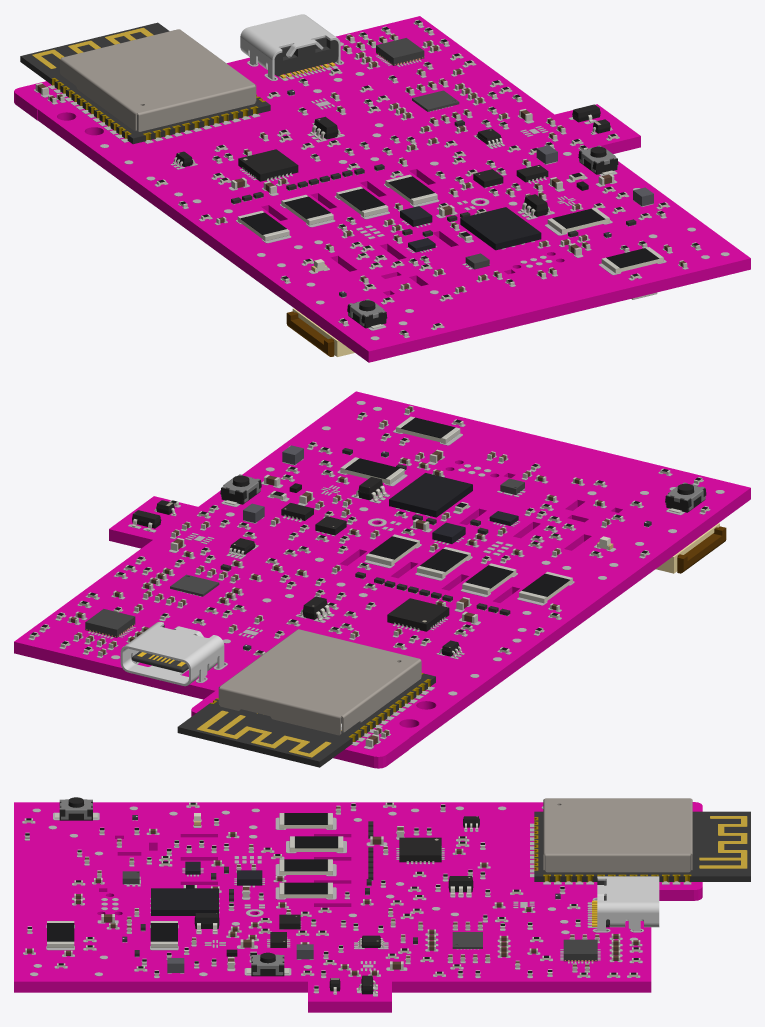
Rendered from board_v24_pads.glb.
3 renders of one model, top to bottom at view 1: azimuth 30°, elevation 25°; view 2: azimuth 150°, elevation 25°; view 3: azimuth 270°, elevation 25°, orthographic. The views are drawn at different scales.
Parts seen in each view (by area): view 1: =>[0:1:1:361], NAUO2, =>[0:1:1:360], =>[0:1:1:10] (×6), =>[0:1:1:20], NAUO215, W25Q512_WSON8 (Shell), =>[0:1:1:291] (×2), =>[0:1:1:239], BODY-QFN, lock, NAUO224 (+1 smaller); view 2: =>[0:1:1:361], NAUO2, =>[0:1:1:360], =>[0:1:1:10] (×6), NAUO215, =>[0:1:1:20], W25Q512_WSON8 (Shell), =>[0:1:1:291] (×2), =>[0:1:1:239], NAUO224, BODY-QFN, lock (+1 smaller); view 3: =>[0:1:1:361], NAUO2, =>[0:1:1:360], =>[0:1:1:10] (×6), NAUO215, =>[0:1:1:20], W25Q512_WSON8 (Shell), =>[0:1:1:291] (×2), =>[0:1:1:239], NAUO224, BODY-QFN, =>0:1:1:16 (+3 smaller).
Part boxes in pixels (<box>): =>[0:1:1:361]: <box>14,16,750,362</box>; NAUO2: <box>60,29,256,131</box>; =>[0:1:1:360]: <box>34,22,729,340</box>; =>[0:1:1:10] (×6): <box>237,174,663,273</box>; =>[0:1:1:20]: <box>240,14,340,79</box>; NAUO215: <box>20,22,270,144</box>; W25Q512_WSON8 (Shell): <box>460,207,541,250</box>; =>[0:1:1:291] (×2): <box>347,145,618,328</box>; =>[0:1:1:239]: <box>238,149,298,181</box>; BODY-QFN: <box>376,38,424,65</box>; lock: <box>286,311,334,356</box>; NAUO224: <box>32,27,153,68</box>; =>[0:1:1:361]: <box>14,391,750,768</box>; NAUO2: <box>218,629,421,735</box>; =>[0:1:1:360]: <box>28,401,724,749</box>; =>[0:1:1:10] (×6): <box>340,416,572,603</box>; NAUO215: <box>177,673,435,767</box>; =>[0:1:1:20]: <box>120,622,224,686</box>; W25Q512_WSON8 (Shell): <box>389,473,472,517</box>; =>[0:1:1:291] (×2): <box>220,474,706,513</box>; =>[0:1:1:239]: <box>387,598,449,631</box>; NAUO224: <box>196,710,331,757</box>; BODY-QFN: <box>85,609,135,637</box>; lock: <box>677,526,726,573</box>; =>[0:1:1:361]: <box>14,802,702,1012</box>; NAUO2: <box>543,798,692,872</box>; =>[0:1:1:360]: <box>22,805,691,996</box>; =>[0:1:1:10] (×6): <box>47,813,343,947</box>; NAUO215: <box>534,811,750,881</box>; =>[0:1:1:20]: <box>592,876,659,931</box>; W25Q512_WSON8 (Shell): <box>151,888,218,915</box>; =>[0:1:1:291] (×2): <box>55,797,288,976</box>; =>[0:1:1:239]: <box>399,837,441,862</box>; NAUO224: <box>699,816,747,868</box>; BODY-QFN: <box>563,939,597,961</box>; =>0:1:1:16: <box>452,932,482,948</box>.
Size of the model in its own units: 0.0567 by 0.00683 by 0.0867.
